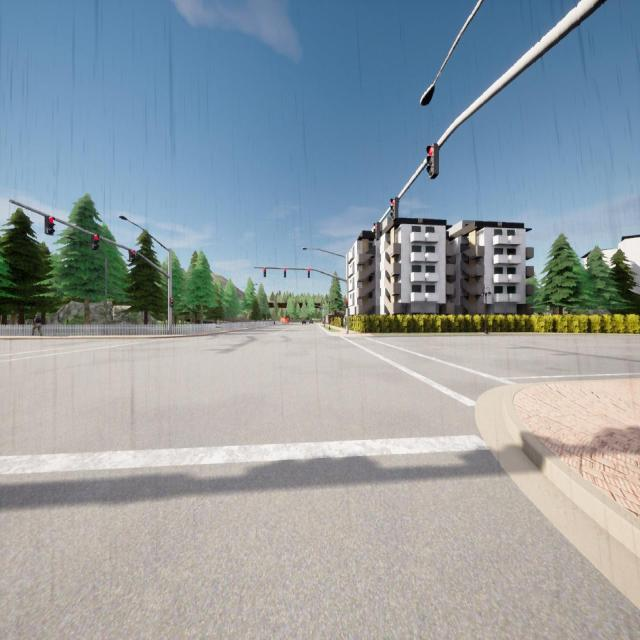Pedestrian: (32, 314, 42, 336)
Vehicle: (280, 317, 290, 323), (309, 319, 313, 324), (302, 320, 306, 324)
traffic_light: (426, 143, 439, 179), (45, 216, 55, 235), (391, 197, 398, 221), (91, 235, 100, 250), (373, 222, 380, 240), (129, 249, 135, 262), (170, 298, 173, 308), (284, 268, 286, 278), (264, 268, 266, 277), (346, 299, 348, 308), (308, 269, 310, 278)
